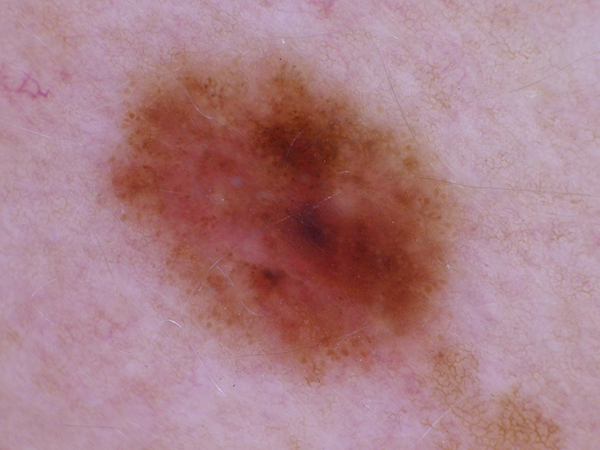Detected Lesion: (103, 65, 463, 385)
